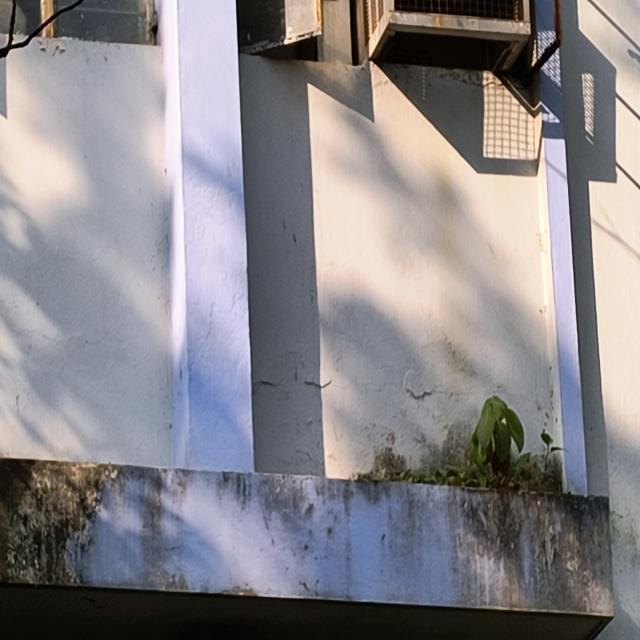pollution -moisture induced blackening: (0, 396, 614, 615)
